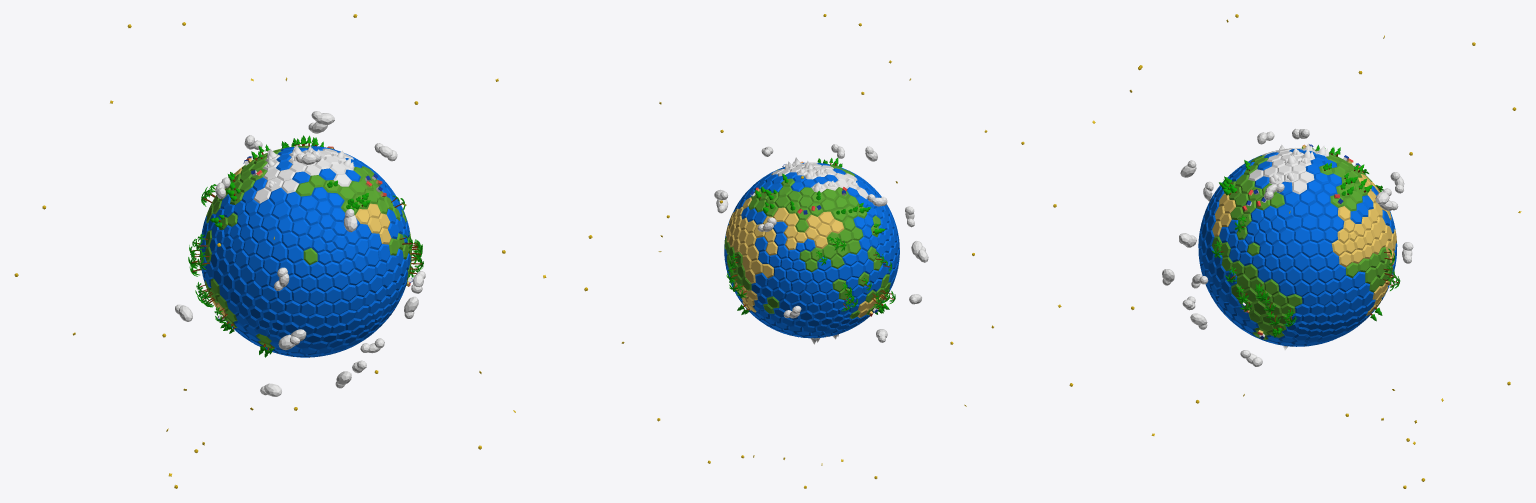
File: hex_earth.fbx
The picture shows the model from 3 angles, left to right: view 1: azimuth 30°, elevation 25°; view 2: azimuth 150°, elevation 25°; view 3: azimuth 270°, elevation 25°; orthographic projection. The views are drawn at different scales.
Visible parts, largest first — view 1: Earth, Clouds and Stars, Earth Details; view 2: Earth, Earth Details, Clouds and Stars; view 3: Earth, Earth Details, Clouds and Stars.
Part boxes in pixels (x1,y1,x2,y2): Earth: (200,145,411,357); Clouds and Stars: (14,14,592,488); Earth Details: (188,135,423,357); Earth: (724,162,899,338); Earth Details: (726,157,895,344); Clouds and Stars: (621,14,1024,488); Earth: (1198,148,1397,346); Earth Details: (1212,143,1400,350); Clouds and Stars: (1053,14,1521,488).
Bounding box in the file's own units: 1810 × 1840 × 1705.
